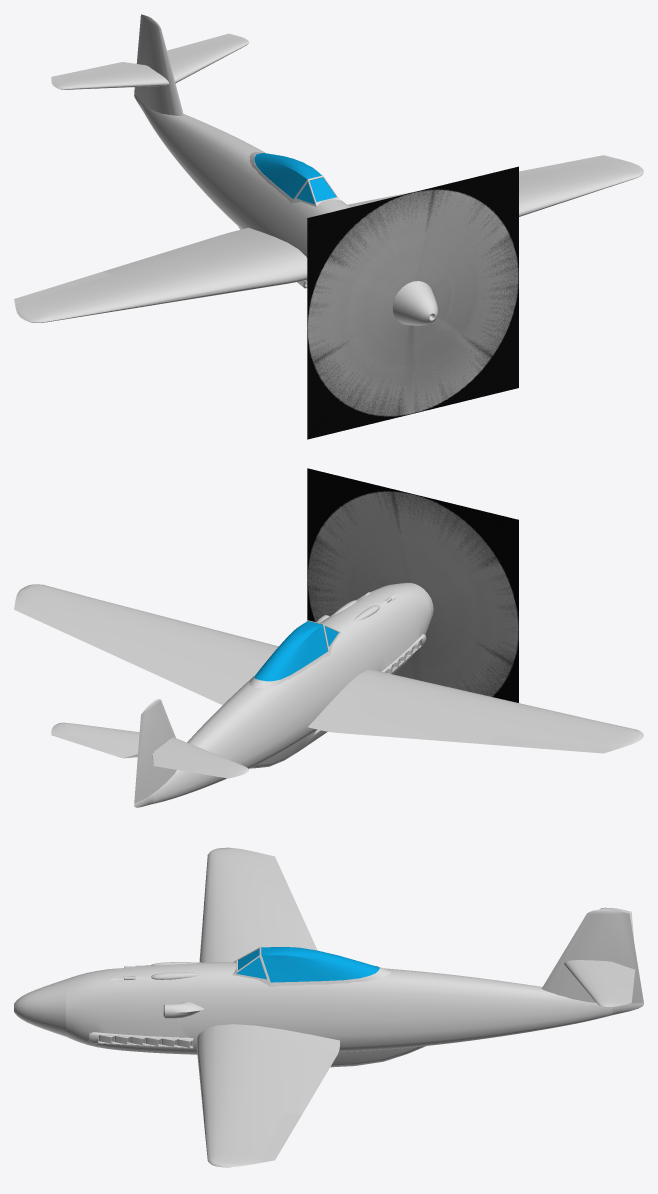
File: Aircraft1A.fbx
3 renders of one model, top to bottom at view 1: azimuth 30°, elevation 25°; view 2: azimuth 150°, elevation 25°; view 3: azimuth 270°, elevation 25°, orthographic. The views are drawn at different scales.
Parts seen in each view (by area): view 1: Propeller, Aircraft 1A Fuselage, Aircraft A1 Right Wing, Aircraft 1A Left Wing, Aircraft 1A Vertical Stabiliser, Aircraft A1 Right Horizontal Stabiliser, Aircraft 1A Left Horizontal Stabiliser; view 2: Propeller, Aircraft 1A Fuselage, Aircraft A1 Right Wing, Aircraft 1A Left Wing, Aircraft 1A Vertical Stabiliser, Aircraft A1 Right Horizontal Stabiliser, Aircraft 1A Left Horizontal Stabiliser; view 3: Aircraft 1A Fuselage, Aircraft 1A Left Wing, Aircraft A1 Right Wing, Aircraft 1A Vertical Stabiliser, Aircraft 1A Left Horizontal Stabiliser.
Part boxes in pixels (x1,y1,x2,y2): Propeller: (307, 166, 518, 439); Aircraft 1A Fuselage: (144, 105, 438, 325); Aircraft A1 Right Wing: (14, 227, 307, 322); Aircraft 1A Left Wing: (347, 155, 643, 216); Aircraft 1A Vertical Stabiliser: (134, 14, 183, 115); Aircraft A1 Right Horizontal Stabiliser: (51, 62, 168, 89); Aircraft 1A Left Horizontal Stabiliser: (167, 33, 248, 83); Propeller: (307, 468, 518, 702); Aircraft 1A Fuselage: (152, 582, 433, 804); Aircraft A1 Right Wing: (308, 669, 643, 753); Aircraft 1A Left Wing: (14, 584, 278, 704); Aircraft 1A Vertical Stabiliser: (134, 699, 176, 807); Aircraft A1 Right Horizontal Stabiliser: (152, 737, 248, 778); Aircraft 1A Left Horizontal Stabiliser: (51, 722, 139, 758); Aircraft 1A Fuselage: (14, 947, 612, 1067); Aircraft 1A Left Wing: (196, 1024, 339, 1167); Aircraft A1 Right Wing: (199, 847, 317, 962); Aircraft 1A Vertical Stabiliser: (542, 909, 643, 1015); Aircraft 1A Left Horizontal Stabiliser: (564, 960, 635, 1007).
Size of the model in its own units: 11.71 by 4 by 9.76.
